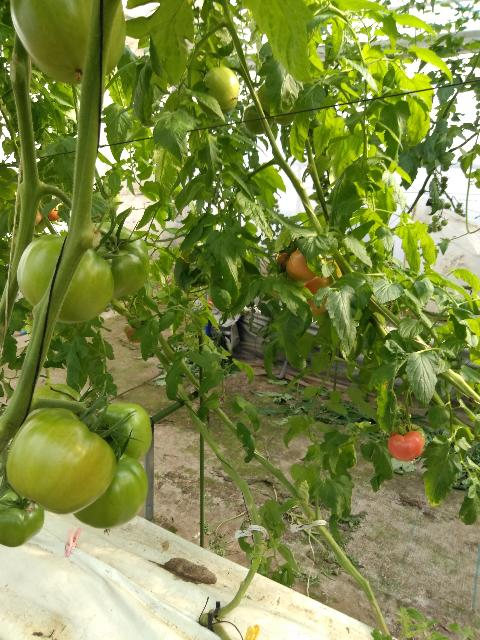b_fully_ripened: (388, 431, 424, 462)
b_green: (6, 406, 117, 516), (10, 0, 127, 85), (17, 234, 115, 323), (72, 450, 149, 529), (90, 222, 150, 298), (95, 402, 153, 461), (0, 488, 44, 548), (203, 67, 239, 109)
b_half_ripened: (286, 247, 325, 282)
